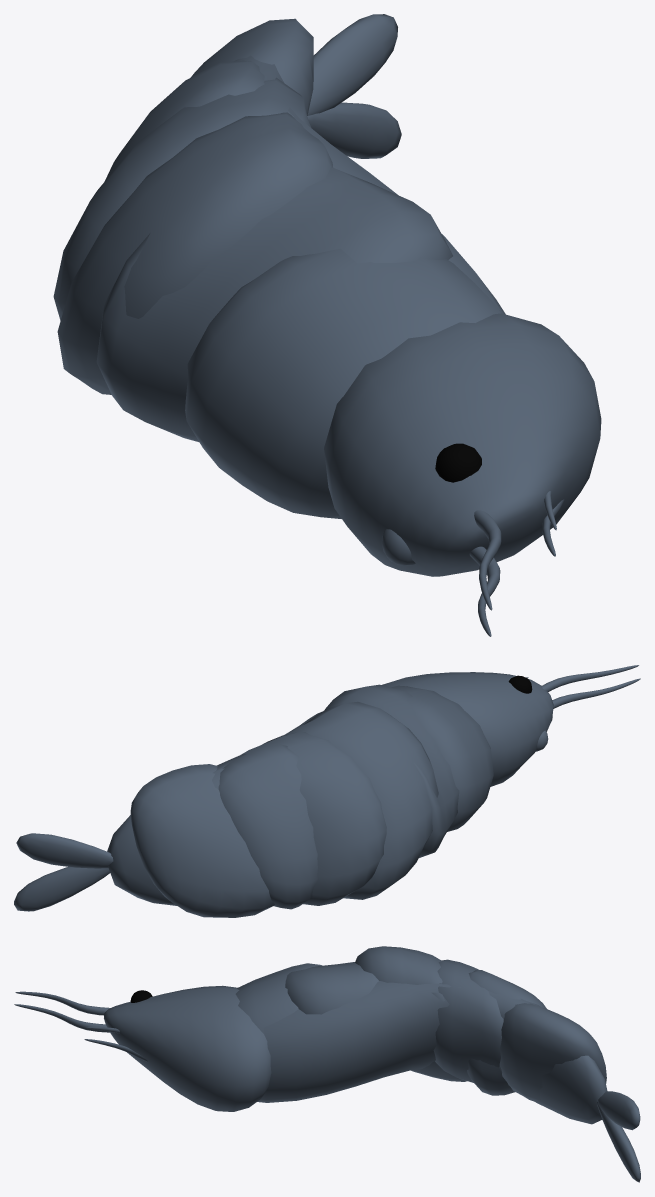
File: shrimp.fbx
3 views of the same model, one above another, from view 1: azimuth 30°, elevation 25°; view 2: azimuth 150°, elevation 25°; view 3: azimuth 270°, elevation 25° (orthographic). The views are drawn at different scales.
Visible parts, largest first — view 1: Shrimp; view 2: Shrimp; view 3: Shrimp.
Boxes of the visible parts, x1=… form: Shrimp: x1=53, y1=14, x2=601, y2=636; Shrimp: x1=14, y1=665, x2=640, y2=917; Shrimp: x1=14, y1=946, x2=640, y2=1182.
Size of the model in its own units: 502 by 252 by 998.
